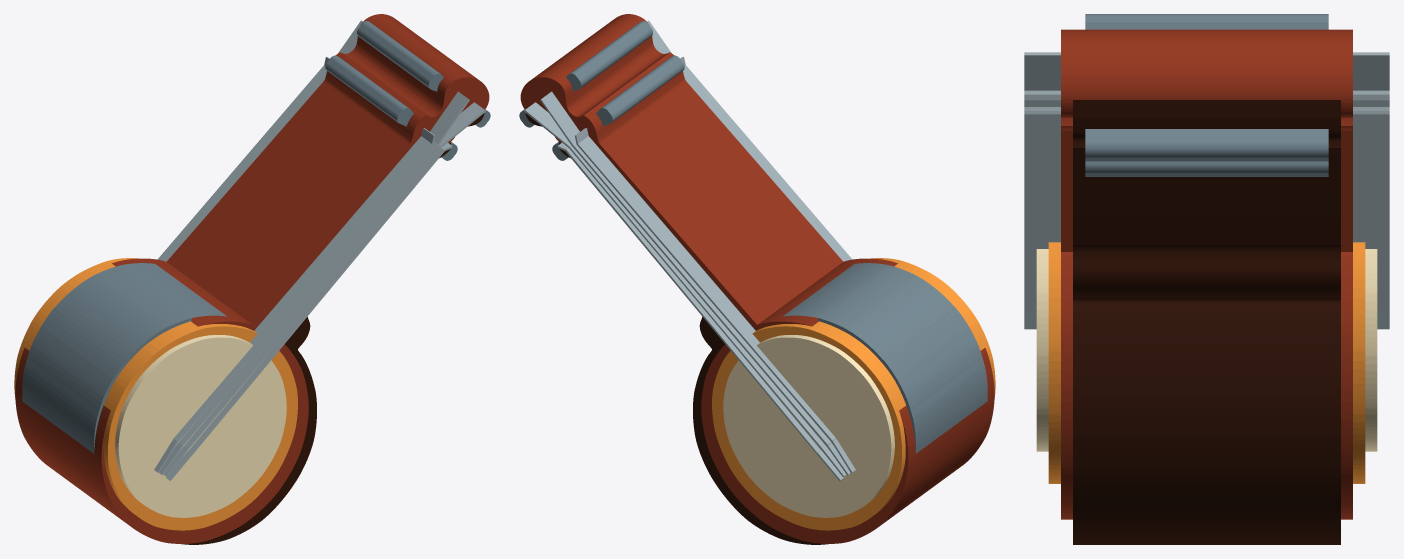
3 views of the same model, side by side, from view 1: azimuth 30°, elevation 25°; view 2: azimuth 150°, elevation 25°; view 3: azimuth 270°, elevation 25° (orthographic). The views are drawn at different scales.
Parts seen in each view (by area): view 1: U+1FA95_layer02_obj00, U+1FA95_layer04_obj00, U+1FA95_layer00_obj02, U+1FA95_layer02_obj01, U+1FA95_layer03_obj00, U+1FA95_layer05_obj06, U+1FA95_layer00_obj11, U+1FA95_layer05_obj01, U+1FA95_layer05_obj00, U+1FA95_layer01_obj00, U+1FA95_layer05_obj02, U+1FA95_layer00_obj14 (+1 smaller); view 2: U+1FA95_layer02_obj00, U+1FA95_layer04_obj00, U+1FA95_layer00_obj02, U+1FA95_layer02_obj01, U+1FA95_layer03_obj00, U+1FA95_layer05_obj06, U+1FA95_layer00_obj11, U+1FA95_layer05_obj01, U+1FA95_layer05_obj00, U+1FA95_layer01_obj00, U+1FA95_layer05_obj02, U+1FA95_layer00_obj14 (+1 smaller); view 3: U+1FA95_layer01_obj00, U+1FA95_layer02_obj00, U+1FA95_layer05_obj02, U+1FA95_layer01_obj02, U+1FA95_layer00_obj05, U+1FA95_layer02_obj01, U+1FA95_layer03_obj00, U+1FA95_layer04_obj00, U+1FA95_layer00_obj00, U+1FA95_layer00_obj10, U+1FA95_layer05_obj01, U+1FA95_layer05_obj00 (+1 smaller).
Boxes of the visible parts, left/top/right/bottom form: U+1FA95_layer02_obj00: left=166, top=14, right=489, bottom=328; U+1FA95_layer04_obj00: left=115, top=335, right=286, bottom=517; U+1FA95_layer00_obj02: left=22, top=263, right=226, bottom=453; U+1FA95_layer02_obj01: left=15, top=258, right=308, bottom=543; U+1FA95_layer03_obj00: left=14, top=258, right=297, bottom=530; U+1FA95_layer05_obj06: left=157, top=57, right=434, bottom=441; U+1FA95_layer00_obj11: left=27, top=307, right=128, bottom=435; U+1FA95_layer05_obj01: left=178, top=20, right=469, bottom=445; U+1FA95_layer05_obj00: left=184, top=102, right=485, bottom=449; U+1FA95_layer01_obj00: left=181, top=317, right=316, bottom=544; U+1FA95_layer05_obj02: left=189, top=142, right=452, bottom=453; U+1FA95_layer00_obj14: left=325, top=55, right=413, bottom=126; U+1FA95_layer02_obj00: left=520, top=14, right=843, bottom=326; U+1FA95_layer04_obj00: left=723, top=335, right=894, bottom=517; U+1FA95_layer00_obj02: left=783, top=263, right=987, bottom=453; U+1FA95_layer02_obj01: left=701, top=258, right=994, bottom=543; U+1FA95_layer03_obj00: left=712, top=258, right=995, bottom=530; U+1FA95_layer05_obj06: left=575, top=57, right=852, bottom=441; U+1FA95_layer00_obj11: left=882, top=307, right=982, bottom=435; U+1FA95_layer05_obj01: left=540, top=20, right=831, bottom=445; U+1FA95_layer05_obj00: left=524, top=102, right=825, bottom=449; U+1FA95_layer01_obj00: left=693, top=317, right=828, bottom=544; U+1FA95_layer05_obj02: left=557, top=142, right=820, bottom=453; U+1FA95_layer00_obj14: left=596, top=55, right=684, bottom=126; U+1FA95_layer01_obj00: left=1073, top=152, right=1340, bottom=544; U+1FA95_layer02_obj00: left=1061, top=29, right=1352, bottom=251; U+1FA95_layer05_obj02: left=1024, top=107, right=1389, bottom=311; U+1FA95_layer01_obj02: left=1073, top=100, right=1340, bottom=152; U+1FA95_layer00_obj05: left=1085, top=129, right=1328, bottom=161; U+1FA95_layer02_obj01: left=1061, top=252, right=1352, bottom=519; U+1FA95_layer03_obj00: left=1048, top=242, right=1365, bottom=483; U+1FA95_layer04_obj00: left=1036, top=249, right=1377, bottom=451; U+1FA95_layer00_obj00: left=1085, top=14, right=1328, bottom=29; U+1FA95_layer00_obj10: left=1085, top=161, right=1328, bottom=176; U+1FA95_layer05_obj01: left=1024, top=52, right=1389, bottom=90; U+1FA95_layer05_obj00: left=1024, top=90, right=1389, bottom=106.
Size of the model in its own units: 0.3185 by 0.3157 by 0.15.
